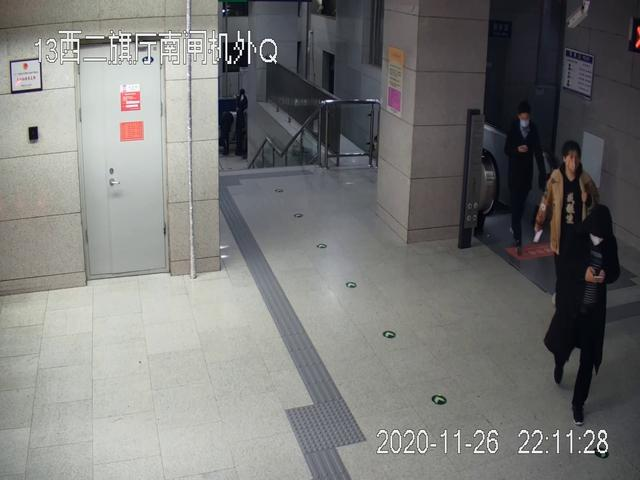person: (546, 206, 619, 425), (531, 140, 601, 348), (505, 105, 545, 260)
